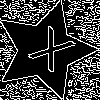X: (20, 25, 77, 82)
